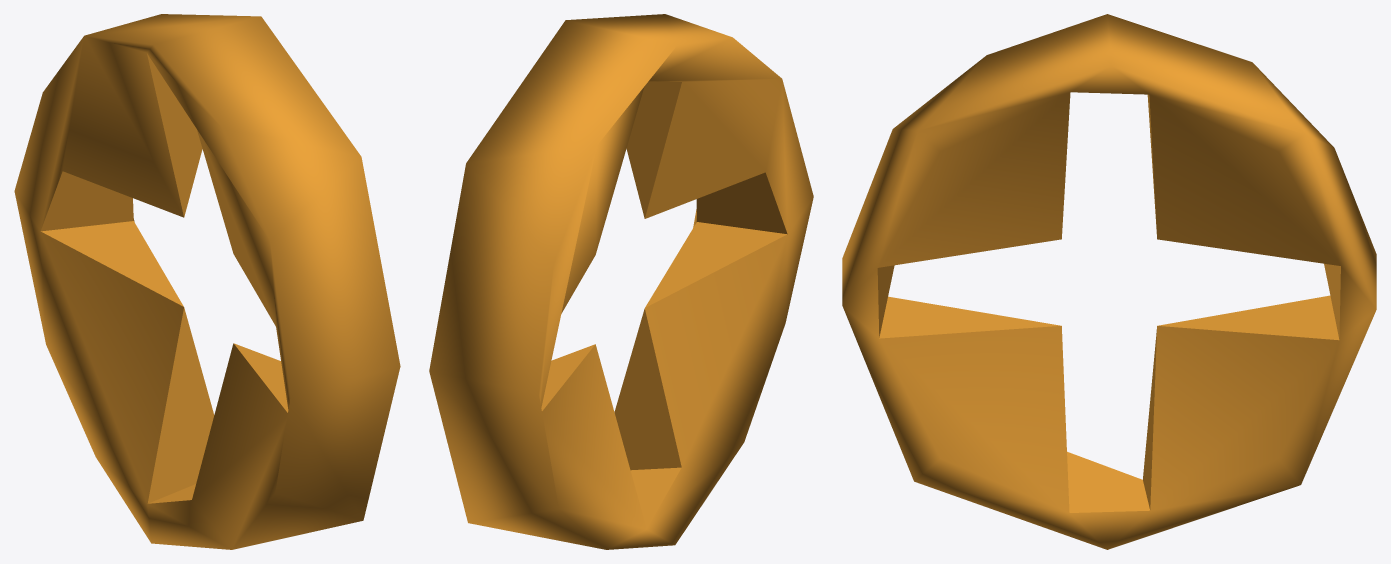
Rendered from coin.glb.
3 views of the same model, side by side, from view 1: azimuth 30°, elevation 25°; view 2: azimuth 150°, elevation 25°; view 3: azimuth 270°, elevation 25° (orthographic). The views are drawn at different scales.
Parts seen in each view (by area): view 1: Cylinder; view 2: Cylinder; view 3: Cylinder.
Boxes of the visible parts, bbox=[...] form: Cylinder: bbox=[14, 14, 400, 549]; Cylinder: bbox=[429, 14, 813, 549]; Cylinder: bbox=[842, 14, 1376, 549].
Bounding box in the file's own units: 0.07 × 0.3038 × 0.3038.
